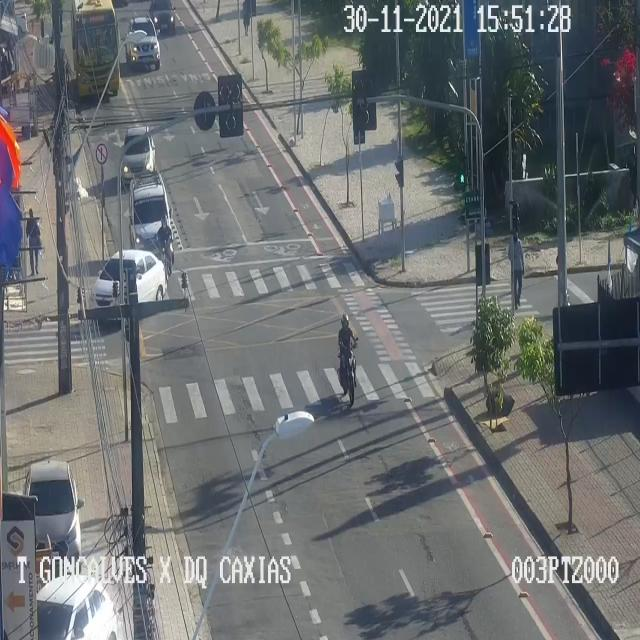Bus: (68, 0, 120, 106)
Car: (24, 462, 80, 572), (89, 249, 165, 326), (36, 574, 116, 639), (128, 173, 172, 259), (122, 125, 154, 183), (125, 16, 159, 68), (149, 0, 181, 34)
Motorcycle: (338, 313, 358, 404), (155, 214, 173, 288)
